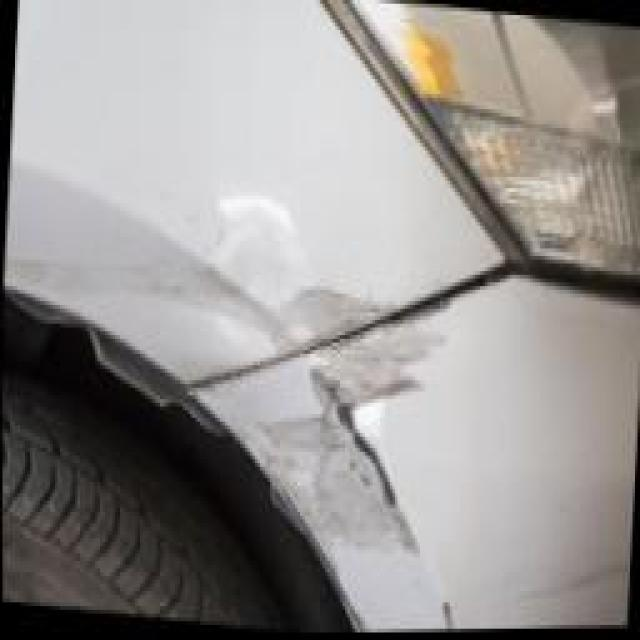Bumper: (199, 274, 585, 634)
Fender: (74, 101, 502, 396)
